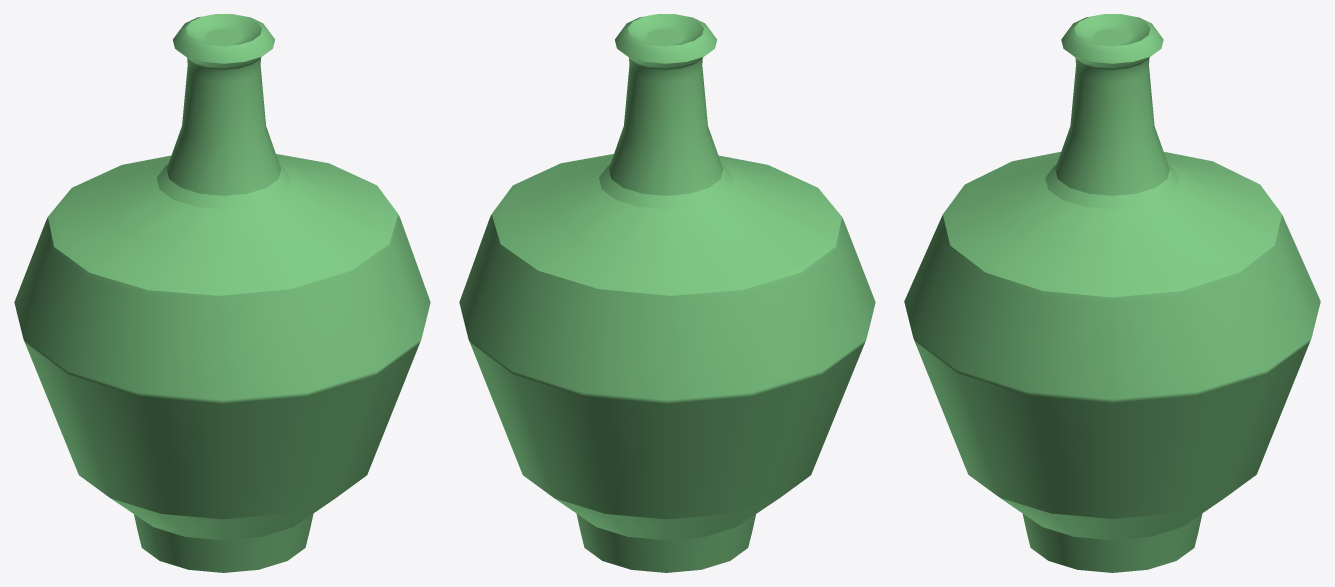
Rendered from sm_roundvase.fbx.
3 views of the same model, side by side, from view 1: azimuth 30°, elevation 25°; view 2: azimuth 150°, elevation 25°; view 3: azimuth 270°, elevation 25° (orthographic).
Visible parts, largest first — view 1: sm_roundvase; view 2: sm_roundvase; view 3: sm_roundvase.
Boxes of the visible parts, x1,y1,x2,y2 form: sm_roundvase: [14, 14, 430, 572]; sm_roundvase: [459, 14, 875, 572]; sm_roundvase: [904, 14, 1320, 572].
Size of the model in its own units: 0.5511 by 0.7441 by 0.5542.
